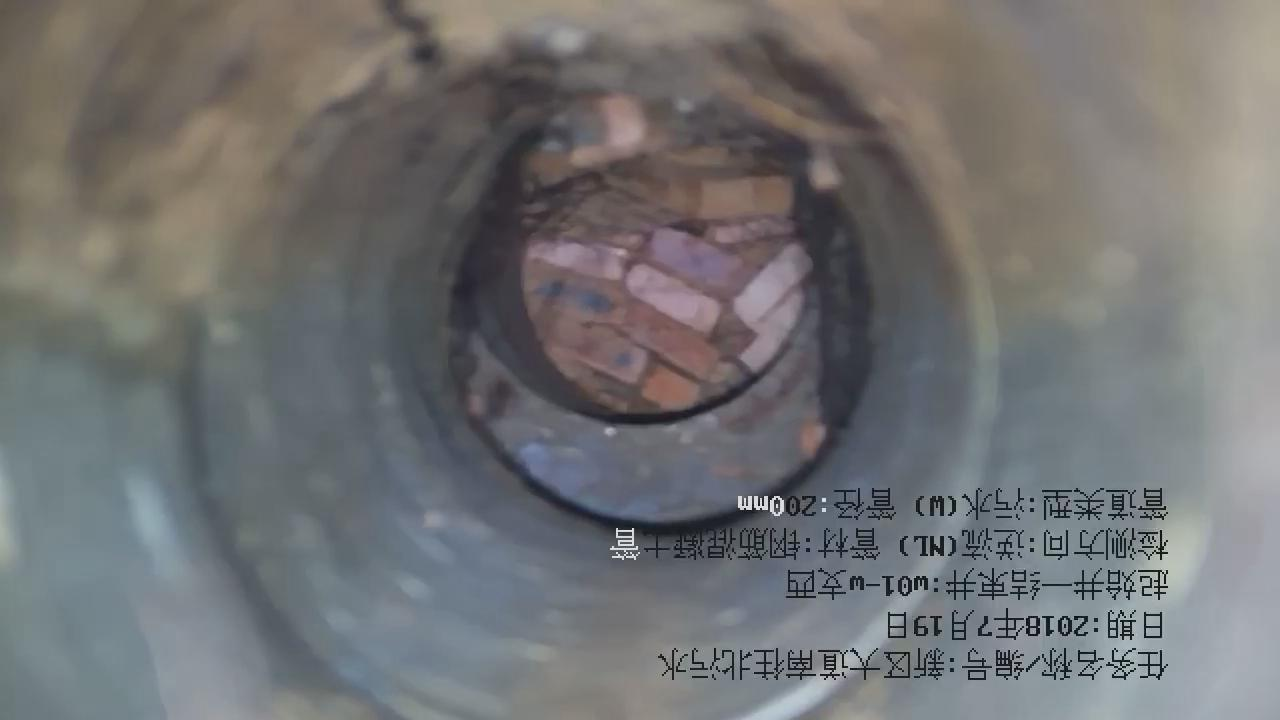CQBG: (522, 226, 806, 412)
